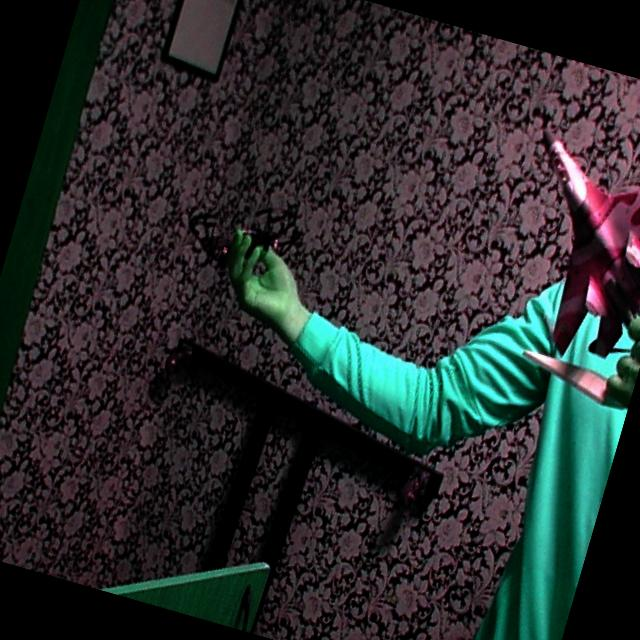drone: (173, 165, 321, 296)
